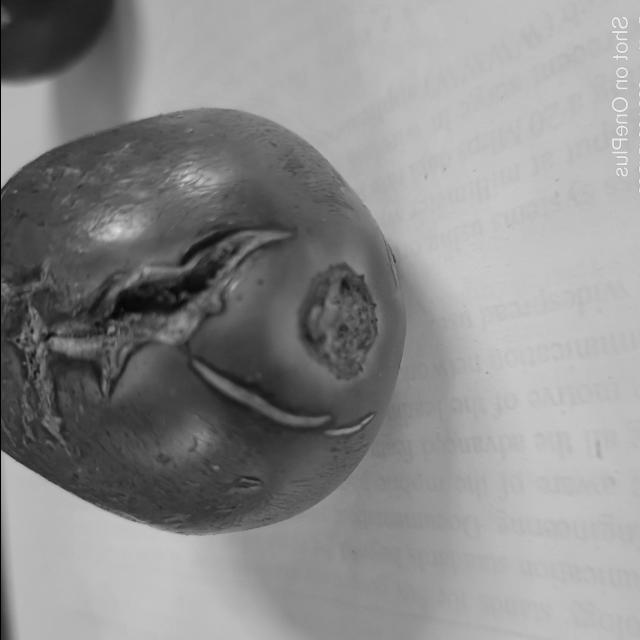tomato_cracking: (3, 211, 310, 465), (182, 364, 369, 443)
